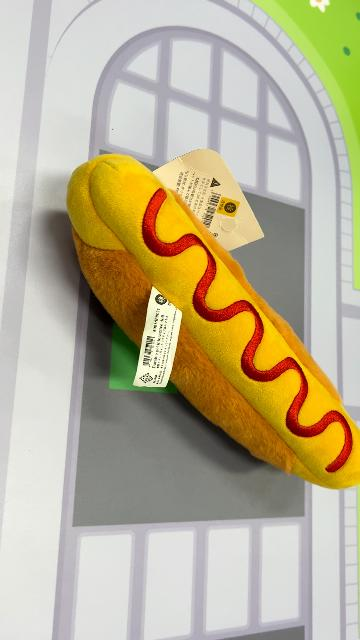hotdog: (66, 152, 358, 490)
